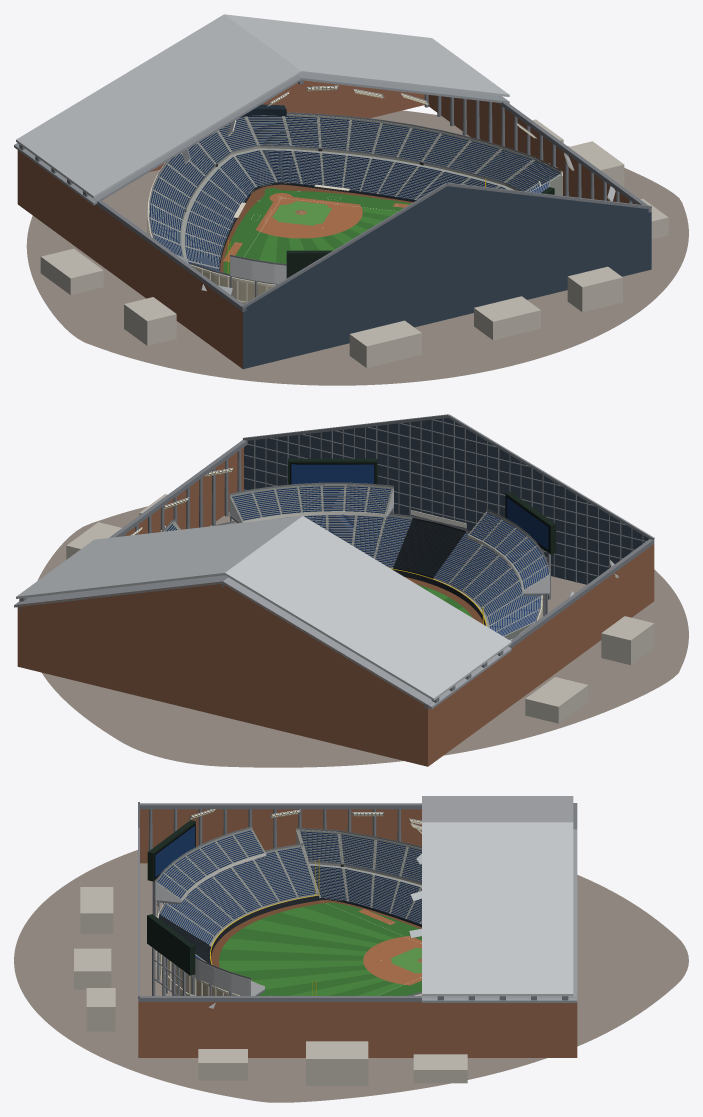
Rendered from hokkaido_ballpark.obj.
The picture shows the model from 3 angles, top to bottom: view 1: azimuth 30°, elevation 25°; view 2: azimuth 150°, elevation 25°; view 3: azimuth 270°, elevation 25°; orthographic projection. The views are drawn at different scales.
Visible parts, largest first — view 1: glass_wall, roof_moving, ground_apron, outer_wall_shell, outer_buildings, stand_first, stand_backstop, stand_third, roof_fixed_structure, turf_base, roof_fixed, infield_brown (+9 smaller); view 2: outer_wall_shell, roof_moving, ground_apron, glass_wall, stand_outfield_left, glass_wall_mullions, stand_outfield_right, outer_buildings, scoreboard, roof_fixed, roof_fixed_structure, backscreen (+2 smaller); view 3: ground_apron, roof_moving, outer_wall_shell, stand_outfield_left, outer_buildings, stand_third, turf_base, turf_stripes, roof_fixed_structure, scoreboard, roof_fixed, infield_brown (+8 smaller).
Boxes of the visible parts, bbox=[...] form: glass_wall: bbox=[243, 186, 651, 369]; roof_moving: bbox=[16, 14, 509, 198]; ground_apron: bbox=[26, 110, 688, 385]; outer_wall_shell: bbox=[17, 80, 634, 368]; outer_buildings: bbox=[40, 119, 668, 367]; stand_first: bbox=[302, 118, 561, 200]; stand_backstop: bbox=[167, 114, 352, 200]; stand_third: bbox=[148, 163, 246, 271]; roof_fixed_structure: bbox=[19, 80, 651, 311]; turf_base: bbox=[223, 188, 411, 274]; roof_fixed: bbox=[14, 73, 509, 205]; infield_brown: bbox=[256, 193, 362, 238]; outer_wall_shell: bbox=[17, 447, 654, 766]; roof_moving: bbox=[16, 516, 511, 700]; ground_apron: bbox=[37, 506, 688, 767]; glass_wall: bbox=[244, 418, 648, 584]; stand_outfield_left: bbox=[433, 510, 549, 638]; glass_wall_mullions: bbox=[242, 414, 654, 584]; stand_outfield_right: bbox=[226, 484, 412, 568]; outer_buildings: bbox=[66, 494, 654, 723]; scoreboard: bbox=[244, 458, 556, 599]; roof_fixed: bbox=[14, 575, 511, 709]; roof_fixed_structure: bbox=[18, 440, 654, 708]; backscreen: bbox=[393, 518, 465, 578]; ground_apron: bbox=[14, 850, 688, 1102]; roof_moving: bbox=[422, 796, 573, 996]; outer_wall_shell: bbox=[138, 809, 577, 1057]; stand_outfield_left: bbox=[155, 828, 318, 946]; outer_buildings: bbox=[74, 887, 467, 1085]; stand_third: bbox=[296, 829, 421, 924]; turf_base: bbox=[219, 902, 421, 995]; turf_stripes: bbox=[219, 907, 403, 995]; roof_fixed_structure: bbox=[138, 803, 576, 1001]; scoreboard: bbox=[147, 820, 264, 995]; roof_fixed: bbox=[422, 803, 577, 1002]; infield_brown: bbox=[363, 936, 421, 985].
Bounding box in the file's own units: 324 × 73.6 × 326.
